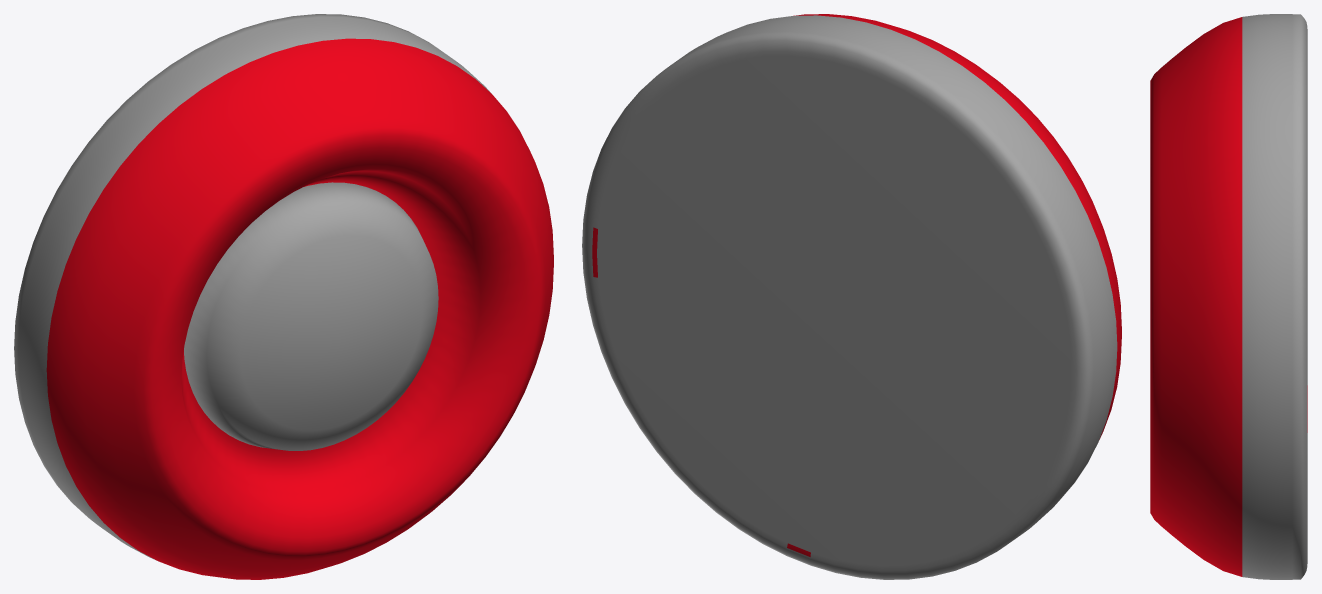
File: Siren.fbx
3 views of the same model, side by side, from view 1: azimuth 30°, elevation 25°; view 2: azimuth 150°, elevation 25°; view 3: azimuth 270°, elevation 25° (orthographic). The views are drawn at different scales.
Parts seen in each view (by area): view 1: Цилиндр.003; view 2: Цилиндр.003; view 3: Цилиндр.003.
Boxes of the visible parts, <box> form: Цилиндр.003: <box>14,14,553,579</box>; Цилиндр.003: <box>582,14,1121,579</box>; Цилиндр.003: <box>1150,14,1307,579</box>.
Size of the model in its own units: 0.053 by 0.053 by 0.0147.
